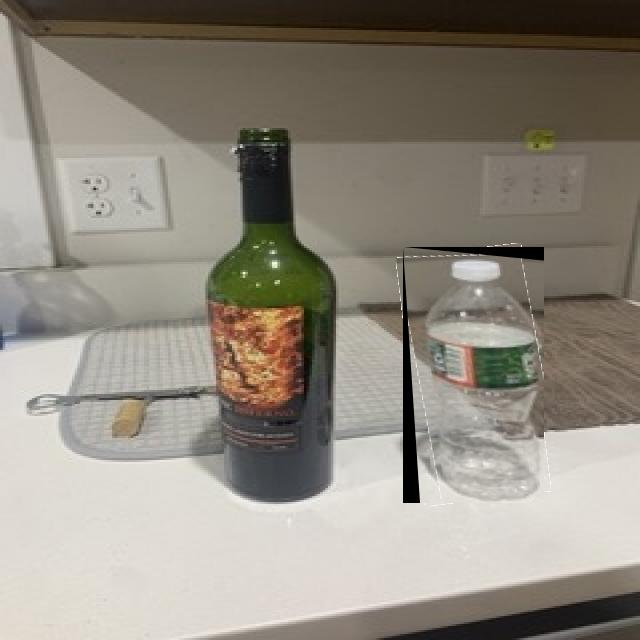water_bottle: (403, 247, 544, 503)
